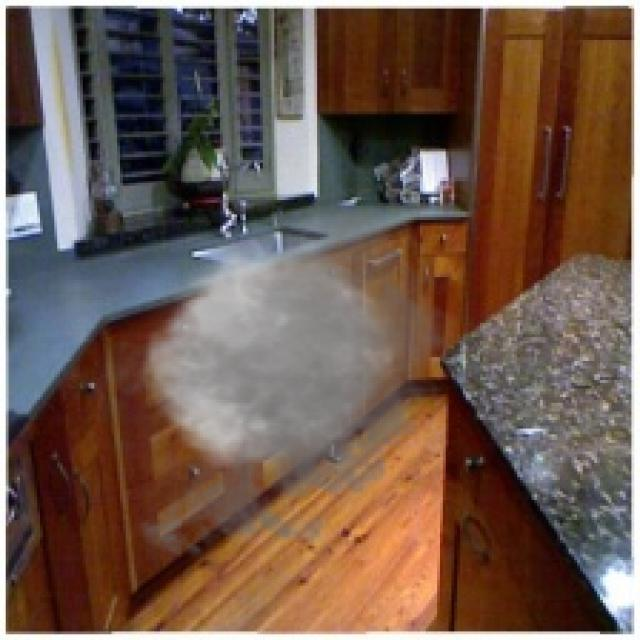smoke: (74, 192, 469, 568)
